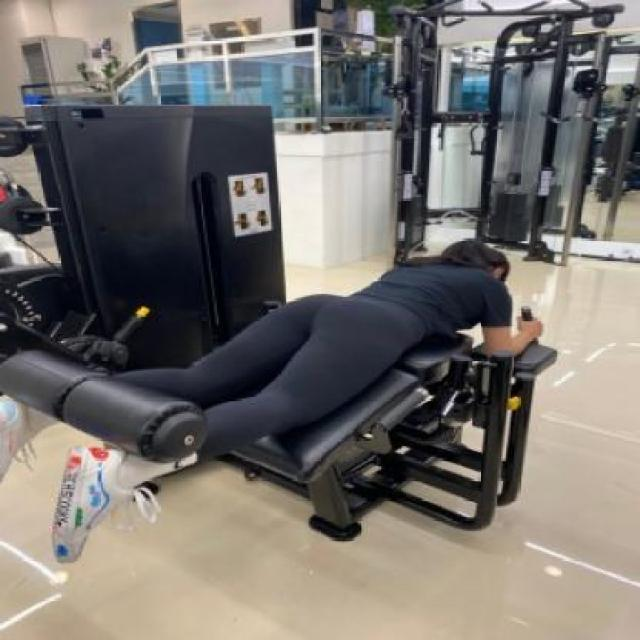reg curl machine: (0, 102, 562, 568)
